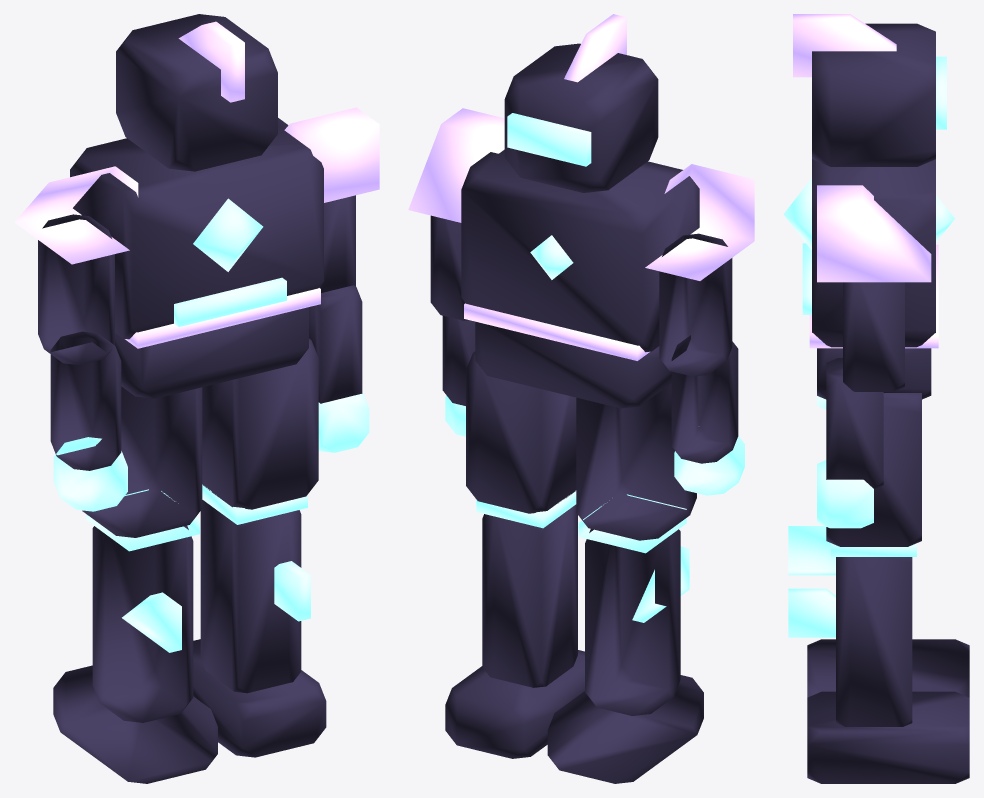
Rendered from CHR_Runner_Nova.glb.
3 views of the same model, side by side, from view 1: azimuth 30°, elevation 25°; view 2: azimuth 150°, elevation 25°; view 3: azimuth 270°, elevation 25° (orthographic). The views are drawn at different scales.
Visible parts, largest first — view 1: chest, head, CHR_Runner_Nova_p2, CHR_Runner_Nova_p3, CHR_Runner_Nova_p4, CHR_Runner_Nova_p5, CHR_Runner_Nova_p1, pelvis, CHR_Runner_Nova_p0, CHR_Runner_Nova_p19, CHR_Runner_Nova_p17, CHR_Runner_Nova_p14 (+13 smaller); view 2: chest, CHR_Runner_Nova_p2, head, CHR_Runner_Nova_p3, CHR_Runner_Nova_p4, CHR_Runner_Nova_p5, CHR_Runner_Nova_p1, pelvis, CHR_Runner_Nova_p0, CHR_Runner_Nova_p17, CHR_Runner_Nova_p15, CHR_Runner_Nova_p19 (+12 smaller); view 3: head, CHR_Runner_Nova_p2, CHR_Runner_Nova_p0, chest, CHR_Runner_Nova_p14, CHR_Runner_Nova_p4, CHR_Runner_Nova_p16, CHR_Runner_Nova_p18, CHR_Runner_Nova_p1, crest, CHR_Runner_Nova_p20, calf_fin_r (+8 smaller).
Part boxes in pixels (left/top/right/bottom): chest: left=70, top=118, right=323, bottom=339; head: left=116, top=14, right=277, bottom=171; CHR_Runner_Nova_p2: left=200, top=500, right=301, bottom=693; CHR_Runner_Nova_p3: left=92, top=525, right=193, bottom=722; CHR_Runner_Nova_p4: left=202, top=338, right=318, bottom=509; CHR_Runner_Nova_p5: left=82, top=386, right=202, bottom=537; CHR_Runner_Nova_p1: left=53, top=665, right=217, bottom=783; pelvis: left=115, top=307, right=308, bottom=398; CHR_Runner_Nova_p0: left=193, top=639, right=326, bottom=757; CHR_Runner_Nova_p19: left=50, top=331, right=121, bottom=470; CHR_Runner_Nova_p17: left=38, top=214, right=114, bottom=364; CHR_Runner_Nova_p14: left=284, top=107, right=379, bottom=202; chest: left=461, top=149, right=699, bottom=352; CHR_Runner_Nova_p2: left=482, top=504, right=577, bottom=687; head: left=504, top=43, right=658, bottom=192; CHR_Runner_Nova_p3: left=585, top=529, right=680, bottom=715; CHR_Runner_Nova_p4: left=466, top=351, right=576, bottom=513; CHR_Runner_Nova_p5: left=576, top=383, right=696, bottom=540; CHR_Runner_Nova_p1: left=547, top=675, right=703, bottom=783; pelvis: left=475, top=321, right=671, bottom=408; CHR_Runner_Nova_p0: left=445, top=650, right=584, bottom=758; CHR_Runner_Nova_p17: left=659, top=233, right=732, bottom=376; CHR_Runner_Nova_p15: left=645, top=164, right=754, bottom=280; CHR_Runner_Nova_p19: left=671, top=335, right=738, bottom=463; head: left=812, top=23, right=935, bottom=166; CHR_Runner_Nova_p2: left=836, top=557, right=912, bottom=726; CHR_Runner_Nova_p0: left=807, top=691, right=969, bottom=783; chest: left=812, top=159, right=935, bottom=347; CHR_Runner_Nova_p14: left=817, top=185, right=931, bottom=282; CHR_Runner_Nova_p4: left=826, top=393, right=921, bottom=546; CHR_Runner_Nova_p16: left=843, top=282, right=904, bottom=391; CHR_Runner_Nova_p18: left=826, top=358, right=883, bottom=489; CHR_Runner_Nova_p1: left=807, top=639, right=969, bottom=697; crest: left=793, top=14, right=896, bottom=77; CHR_Runner_Nova_p20: left=817, top=460, right=873, bottom=528; calf_fin_r: left=788, top=588, right=835, bottom=637.
Bounding box in the file's own units: 0.74 × 1.66 × 0.39.
